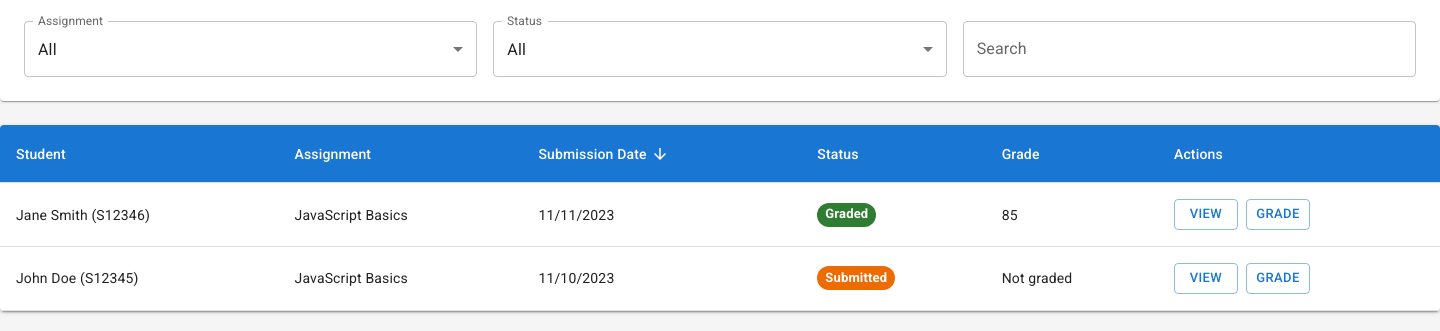
ReviewSubmissionsPage › filters submissions by student name
// Use the search textbox
Step 1. Type "John" into the field labelled "Search" → x=1189, y=49, box [963,21,1416,77]
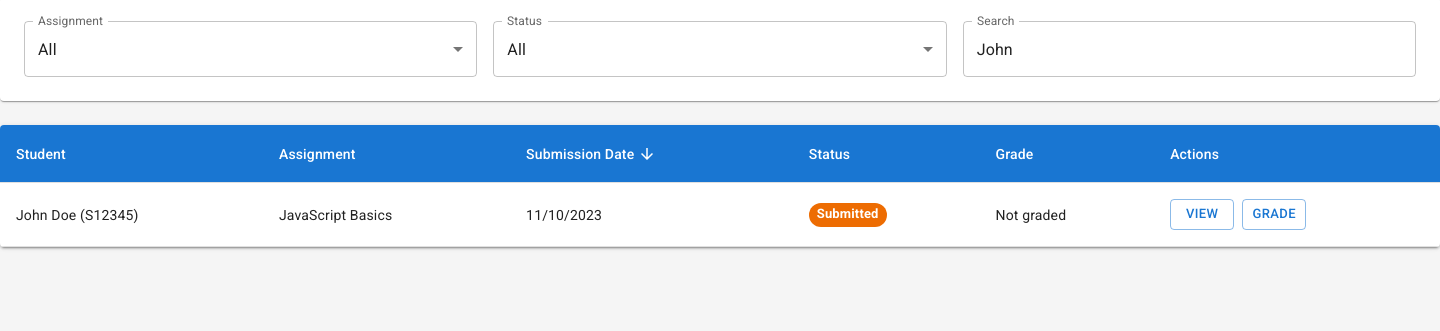
Expected: the text "John Doe (S12345)" is shown, [0,183,263,247]
Result: the text "Jane Smith" is gone
